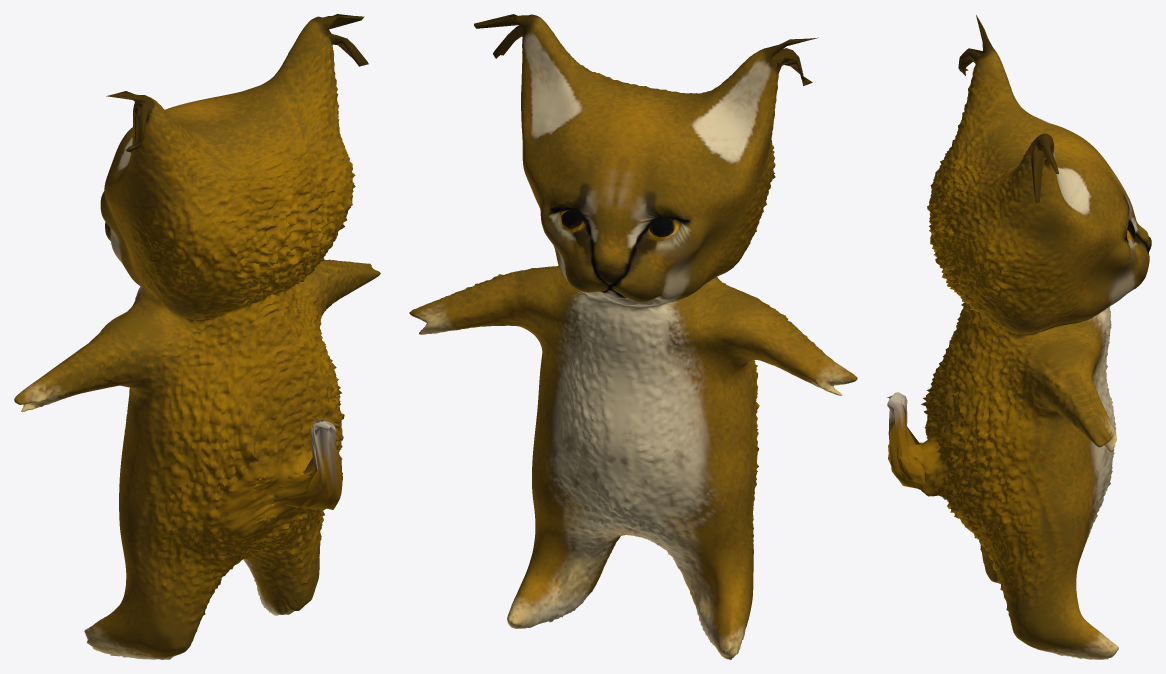
The model's file is floppa.fbx.
3 views of the same model, side by side, from view 1: azimuth 30°, elevation 25°; view 2: azimuth 150°, elevation 25°; view 3: azimuth 270°, elevation 25° (orthographic). The views are drawn at different scales.
Visible parts, largest first — view 1: Object_4; view 2: Object_4; view 3: Object_4.
Boxes of the visible parts, x1,y1,x2,y2 form: Object_4: (14, 14, 380, 659); Object_4: (409, 14, 857, 659); Object_4: (887, 15, 1151, 659).
Bounding box in the file's own units: 161 × 229 × 101.
